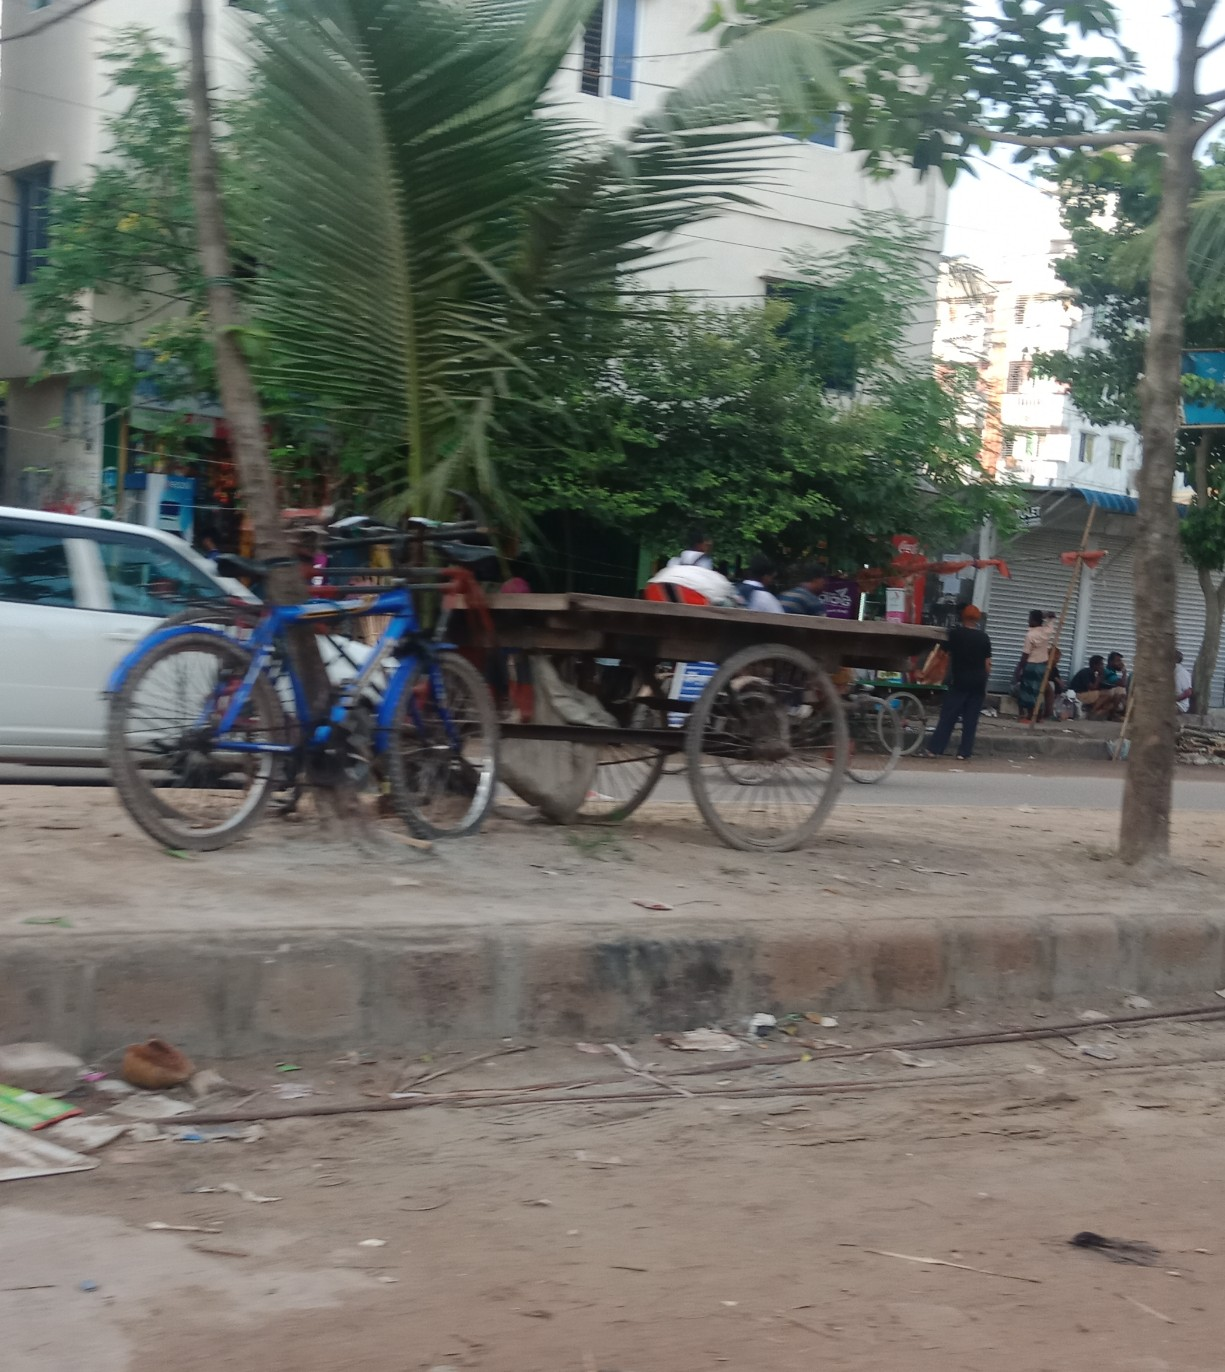bicycle: (91, 544, 531, 879)
car: (1, 490, 331, 768)
van: (397, 572, 949, 850)
